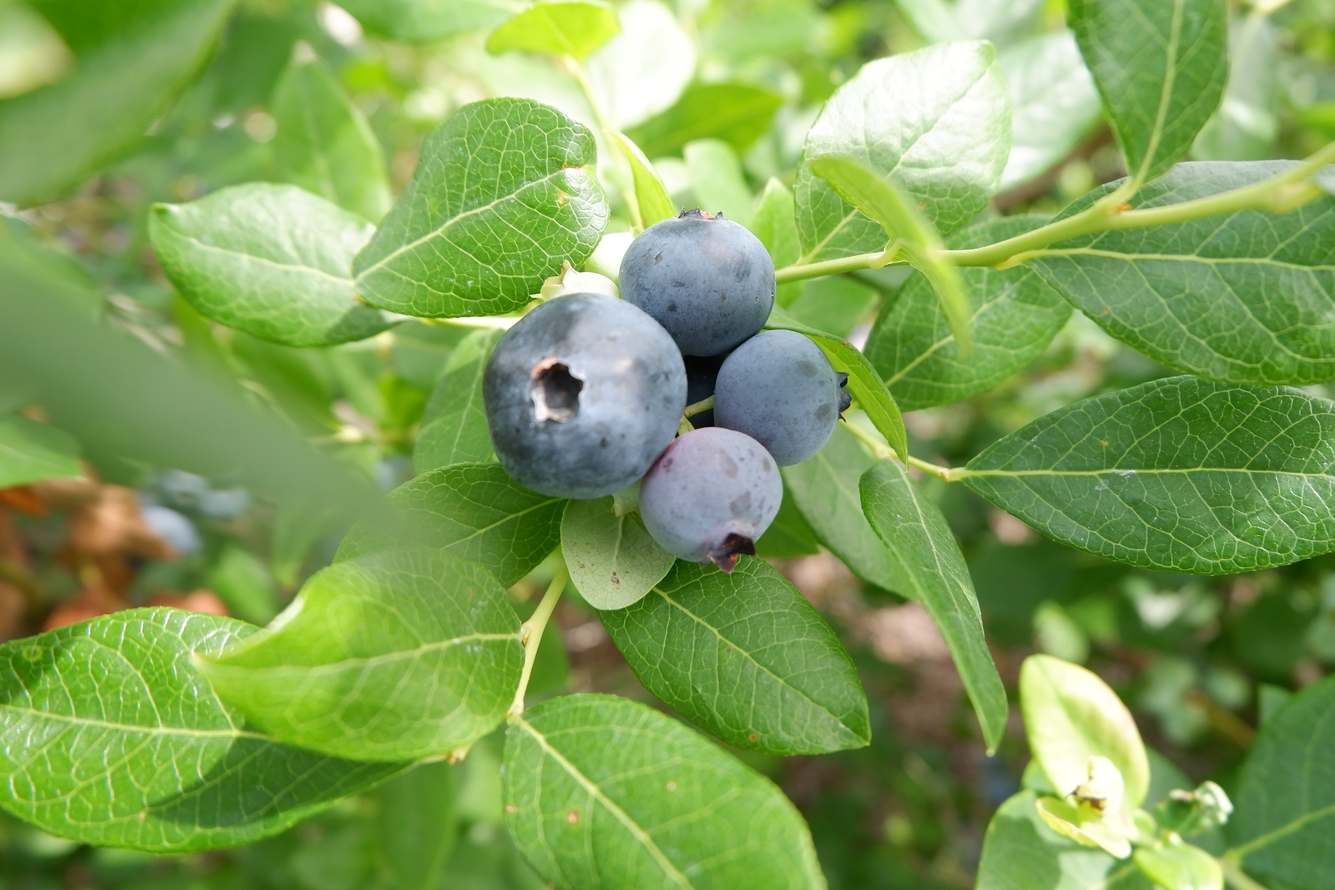Immature: (540, 267, 622, 301), (611, 476, 645, 518)
Mature: (486, 294, 682, 495), (620, 214, 773, 352), (644, 430, 779, 562), (717, 331, 847, 464)
